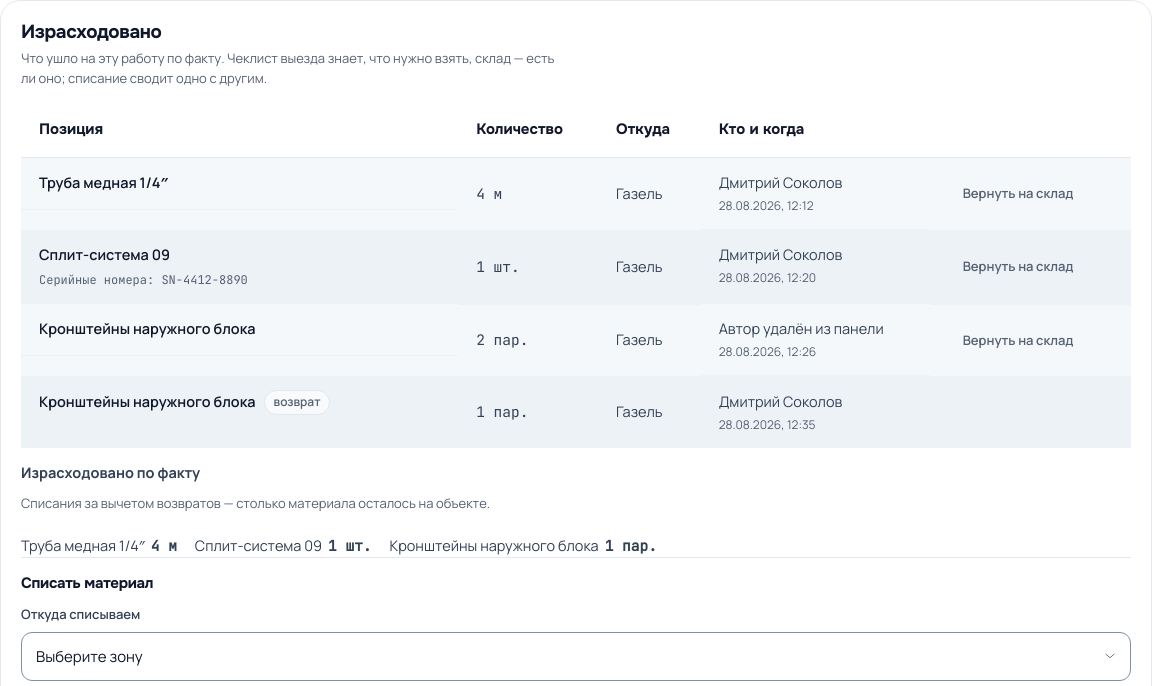
Test: Расход материалов по наряду › отказ на возврате объясняется, а список остаётся на месте
What coordinates should you click on to do the following:
click the button "Вернуть на склад" in the row of "28.08.2026, 12:12"
I would click on:
 (1018, 194)
Its box is x1=948 y1=174 x2=1088 y2=214.
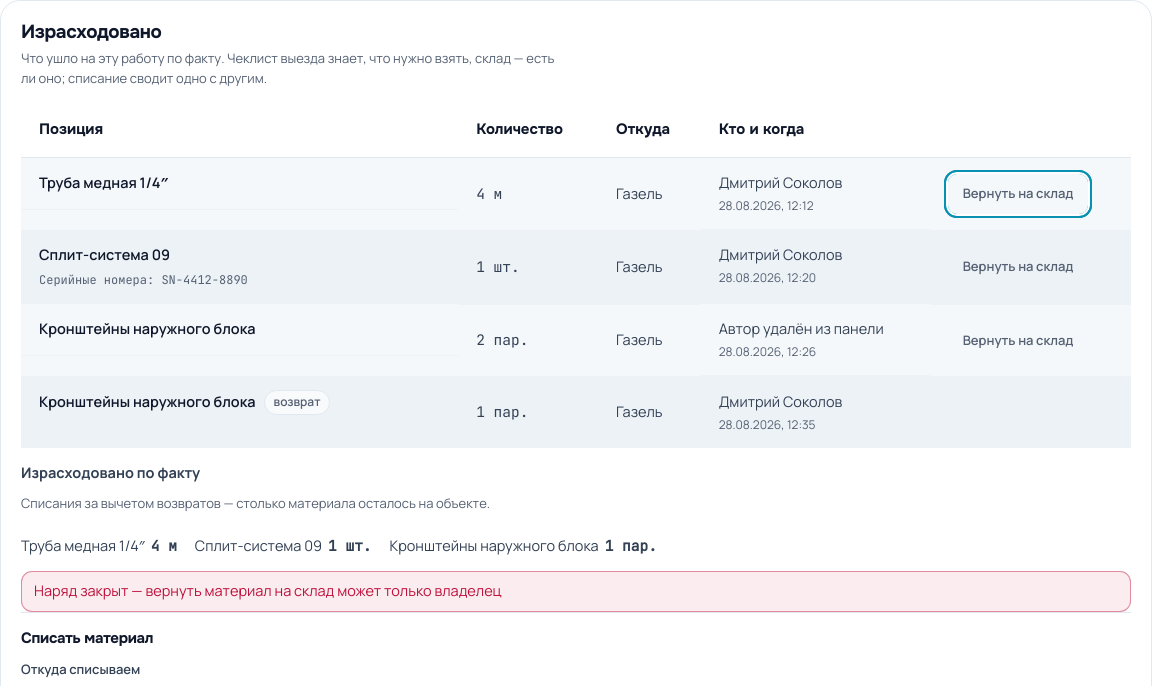
Expected: the message "Наряд закрыт — вернуть материал на склад может только владелец" is shown, x1=21 y1=571 x2=1131 y2=612
